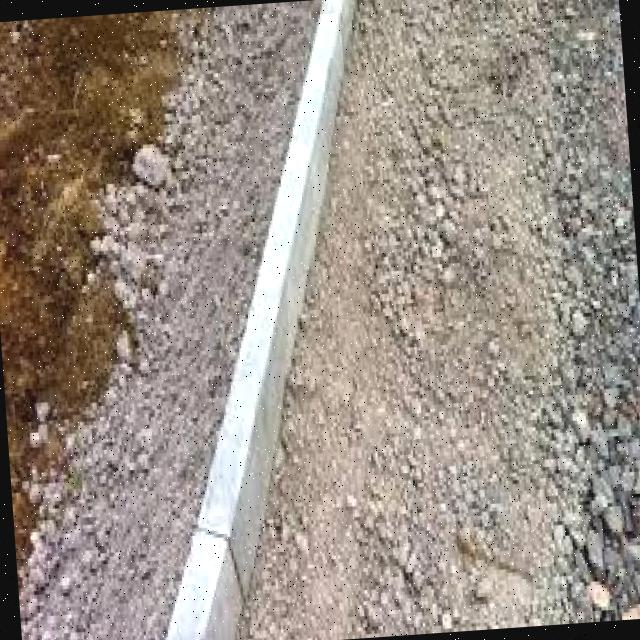curb: (168, 1, 361, 640)
